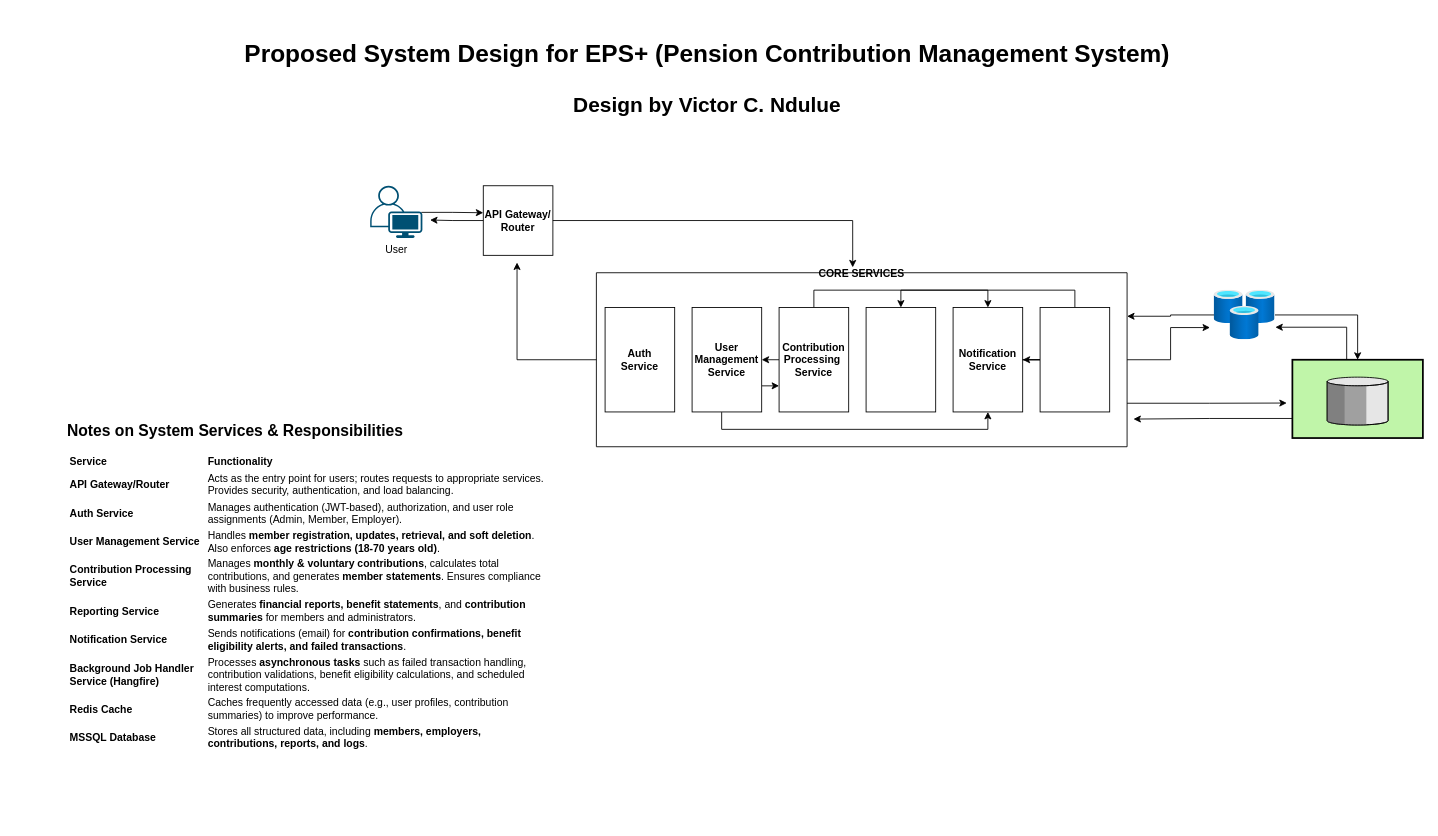
The diagram is 1438 pixels wide and 836 high, and some of its shapes have lost their labels. Here are the shapes that lost their labels. From the top down, the centre of each, then its label:
(1244,314): Redis Cache
(900,359): Reporting Service
(1074,359): Background Job Handler Service
(1357,398): MSSQL DB
